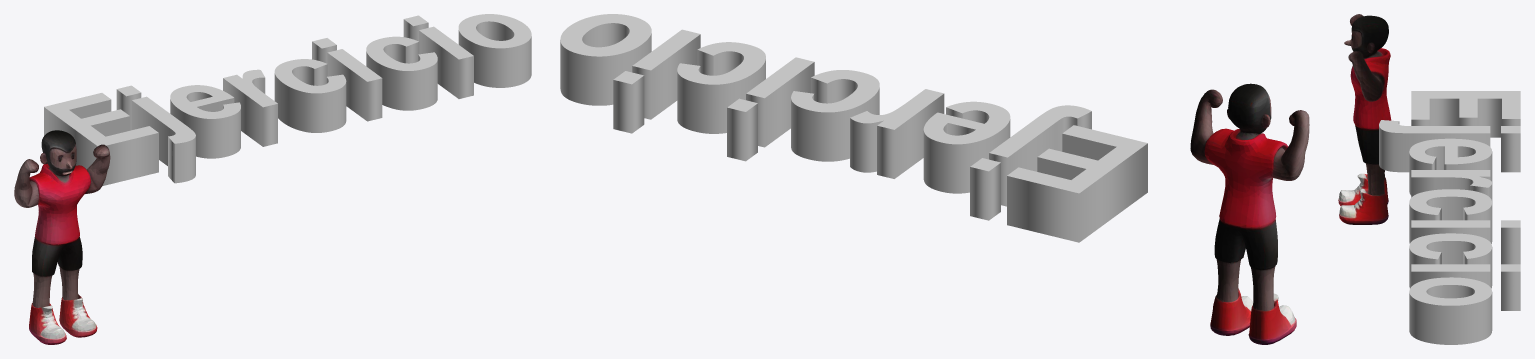
File: arritmia3d.glb
The picture shows the model from 3 angles, left to right: view 1: azimuth 30°, elevation 25°; view 2: azimuth 150°, elevation 25°; view 3: azimuth 270°, elevation 25°; orthographic projection. The views are drawn at different scales.
Parts seen in each view (by area): view 1: Text, Exercise; view 2: Text, Exercise; view 3: Text, Exercise.
Part boxes in pixels (x1=…): Text: x1=44, y1=14, x2=531, y2=185; Exercise: x1=14, y1=130, x2=110, y2=344; Text: x1=560, y1=14, x2=1147, y2=242; Exercise: x1=1190, y1=83, x2=1309, y2=344; Text: x1=1379, y1=91, x2=1520, y2=344; Exercise: x1=1338, y1=14, x2=1391, y2=224.
Bounding box in the file's own units: 2.9 × 1 × 0.842.
1 material, 1 textured.
